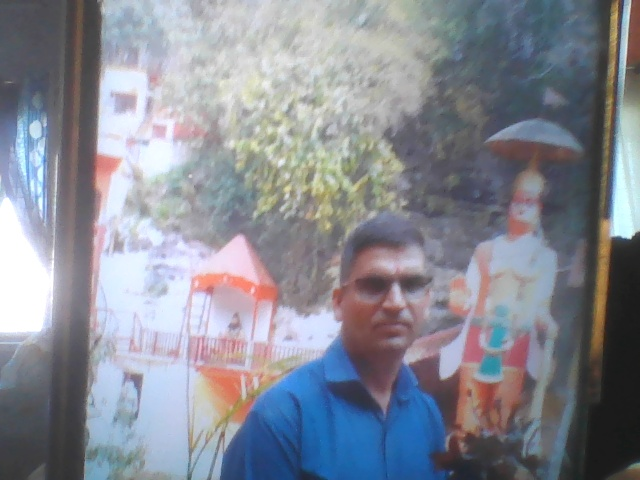fake: (331, 197, 457, 375)
